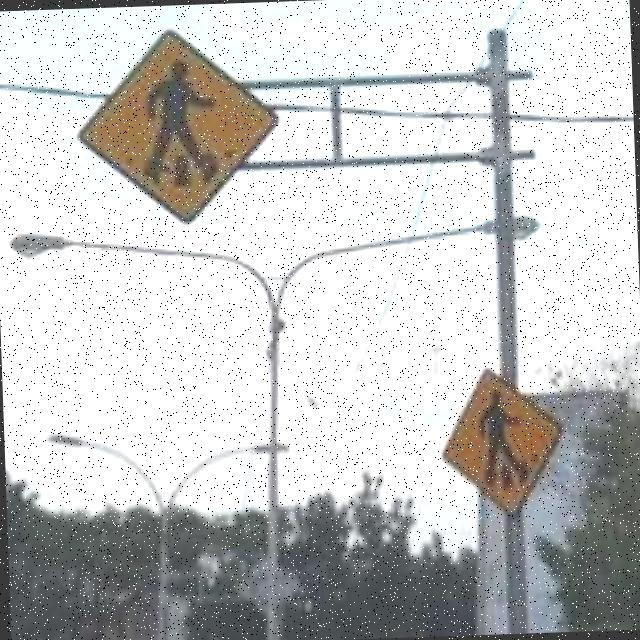Przejscie dla pieszych: (86, 29, 281, 218), (449, 368, 563, 514)
